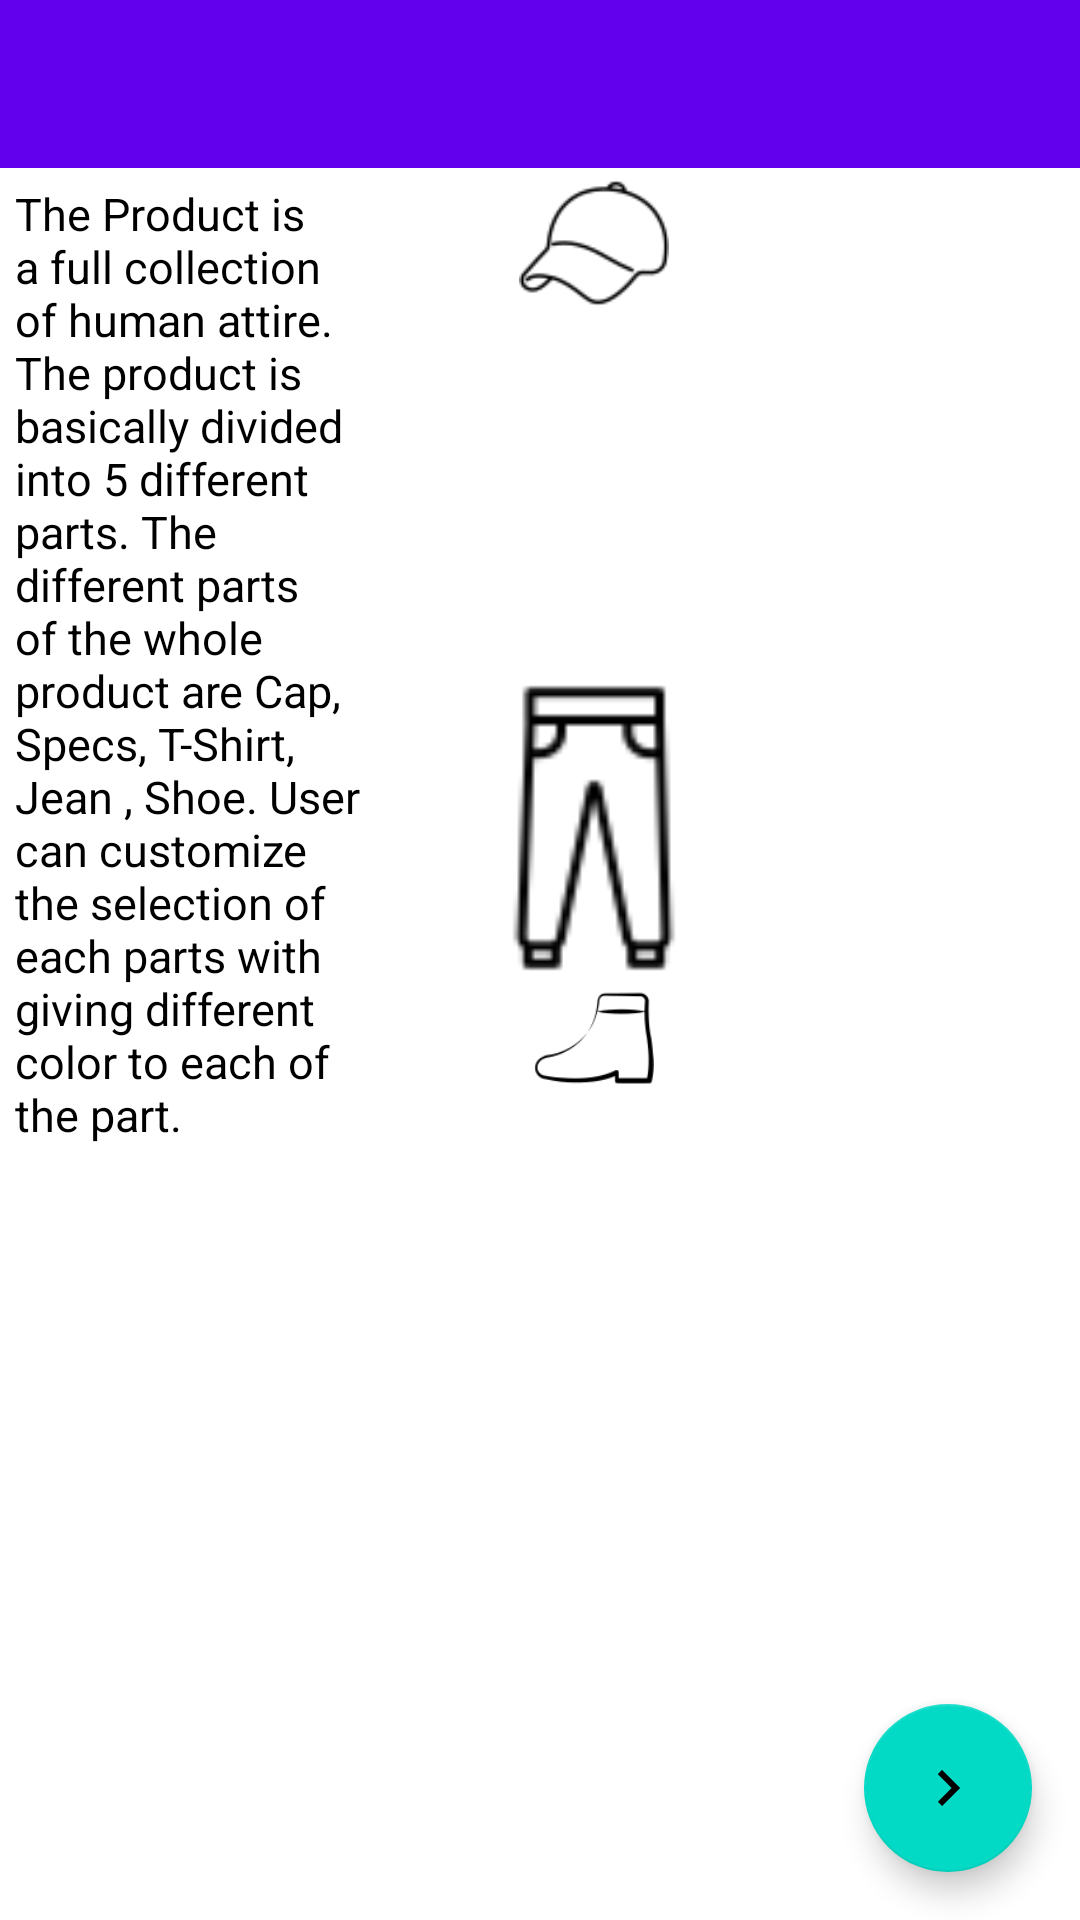

Icon click points for this 1080w x 1920h phone screenshot, format [x,y]:
keyboard arrow right: [948,1788]
shoe: [594,1038]
